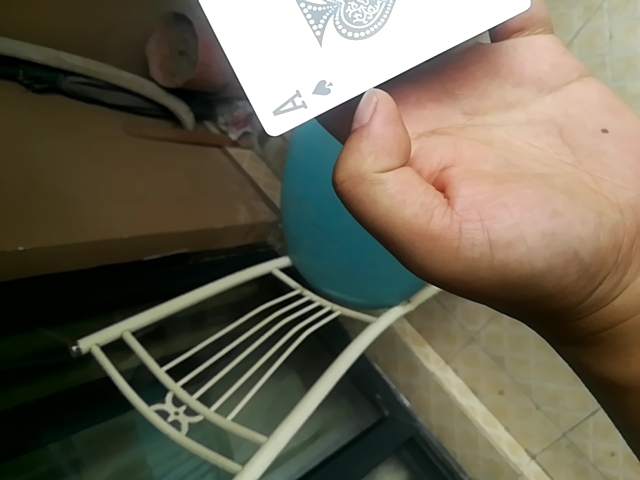ht a: (158, 3, 616, 139)
